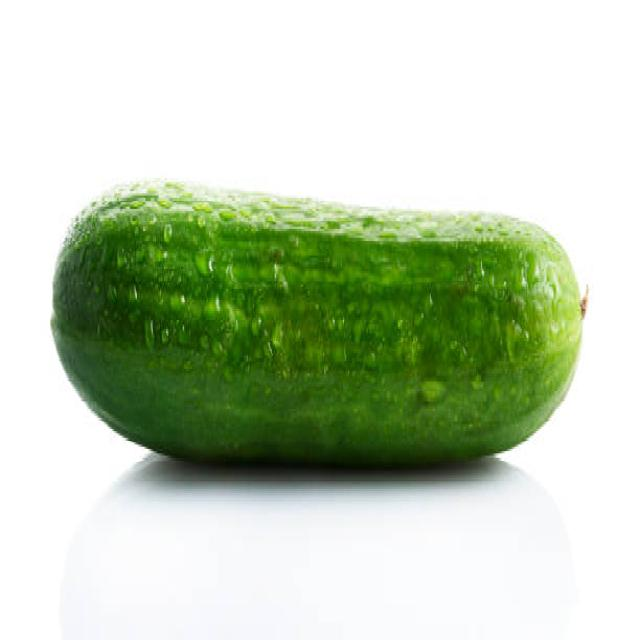cucumber: (52, 180, 582, 470)
